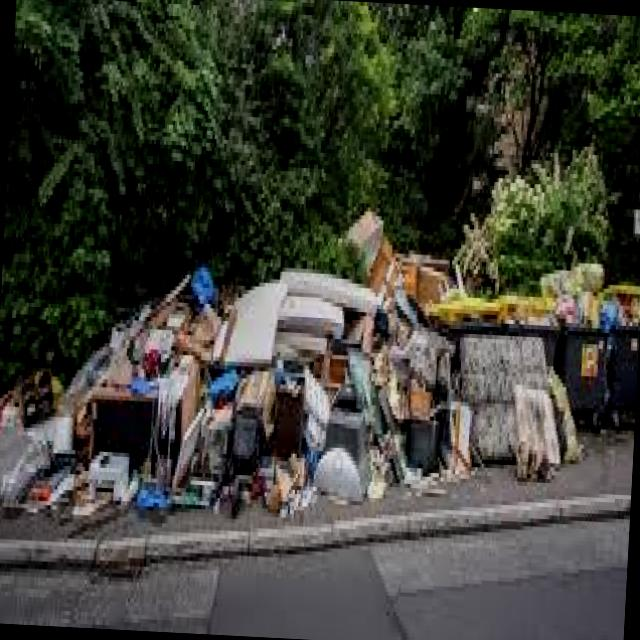garbage: (0, 201, 640, 556)
